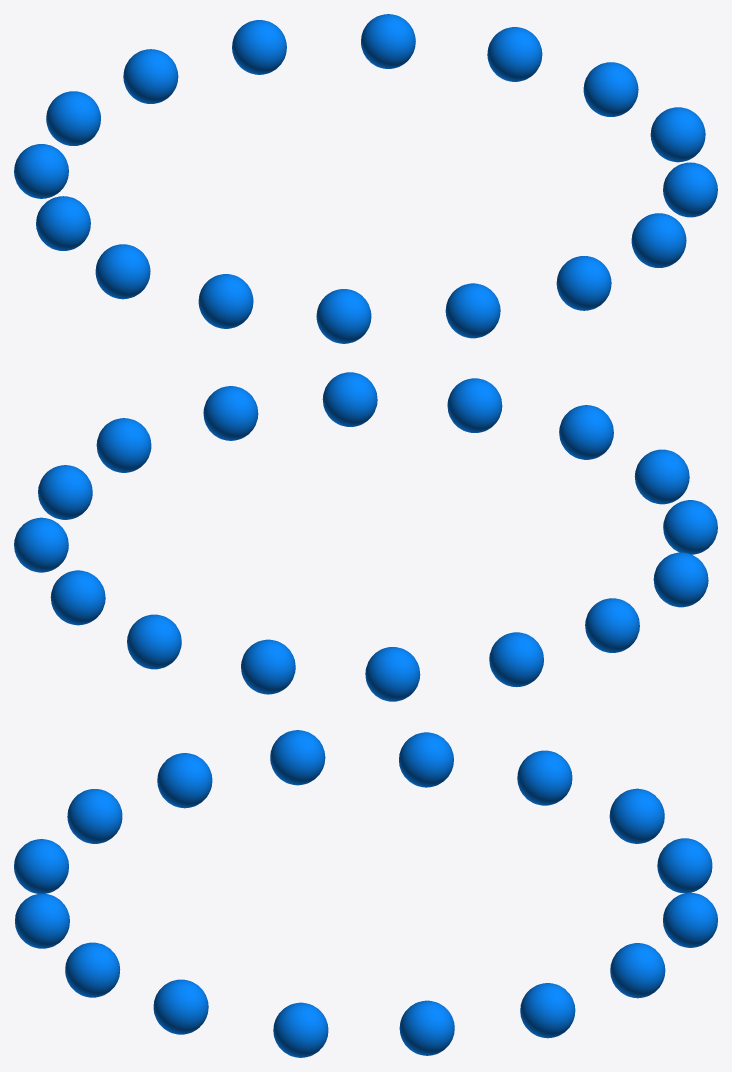
The picture shows the model from 3 angles, top to bottom: view 1: azimuth 30°, elevation 25°; view 2: azimuth 150°, elevation 25°; view 3: azimuth 270°, elevation 25°; orthographic projection.
Visible parts, largest first — view 1: Sphere047; view 2: Sphere047; view 3: Sphere047.
Part boxes in pixels (x1,y1,x2,y2): Sphere047: (14, 14, 717, 343); Sphere047: (14, 372, 717, 701); Sphere047: (14, 730, 717, 1057).
Bounding box in the file's own units: 104 × 8.22 × 105.
